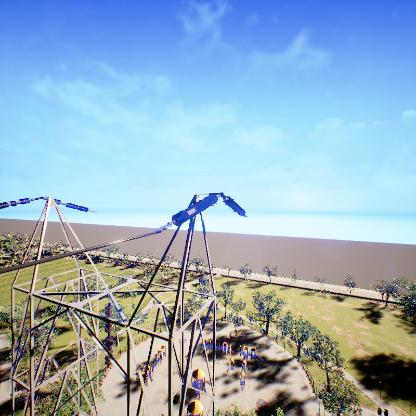insulator: (173, 193, 218, 227), (48, 196, 89, 214), (0, 194, 43, 211), (105, 304, 114, 371), (223, 193, 247, 215)
